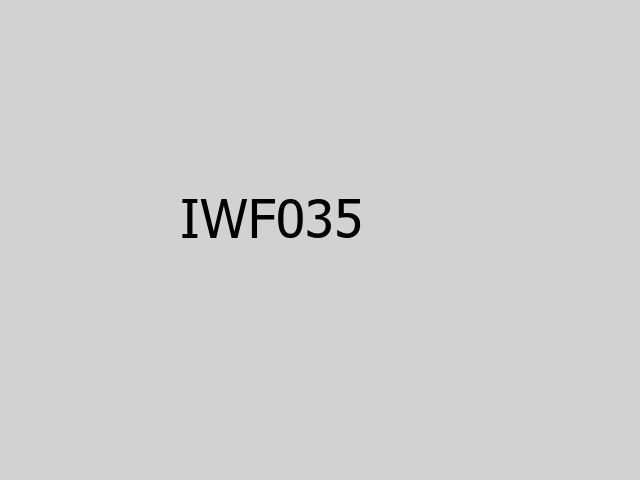OCR_AREA: (176, 195, 367, 242)
